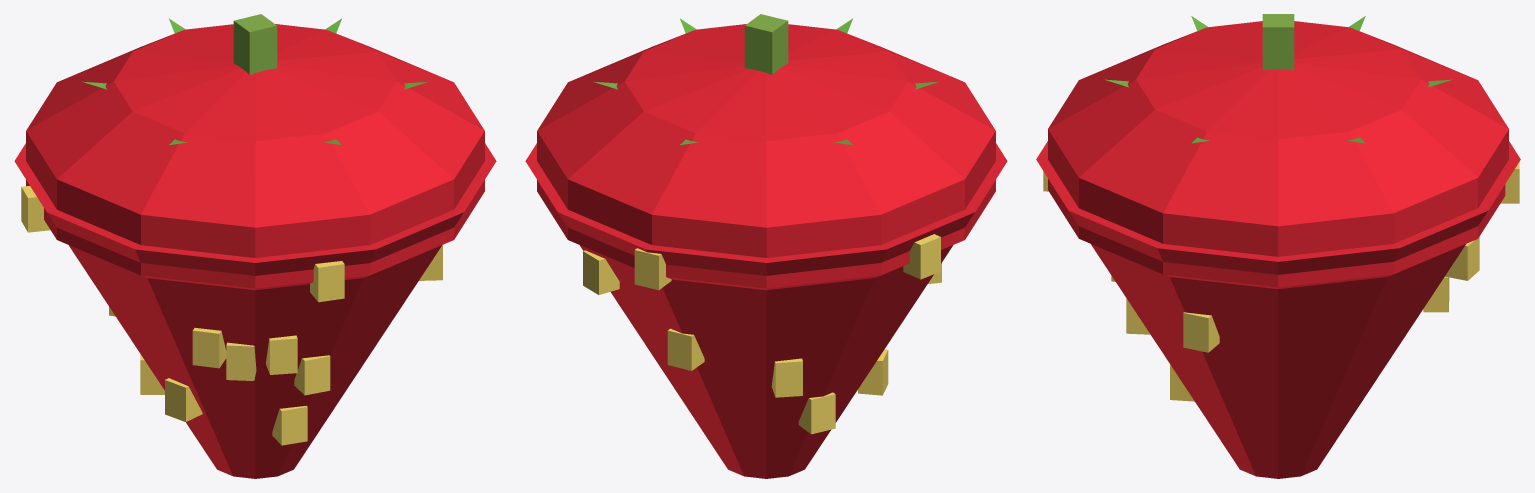
Rendered from strawberry_item.obj.
The picture shows the model from 3 angles, left to right: view 1: azimuth 30°, elevation 25°; view 2: azimuth 150°, elevation 25°; view 3: azimuth 270°, elevation 25°; orthographic projection.
Parts seen in each view (by area): view 1: item; view 2: item; view 3: item.
Part boxes in pixels (bbox=[...]): item: bbox=[14, 14, 496, 478]; item: bbox=[525, 14, 1007, 478]; item: bbox=[1036, 14, 1520, 478].
Bounding box in the file's own units: 0.38 × 0.38 × 0.38.
